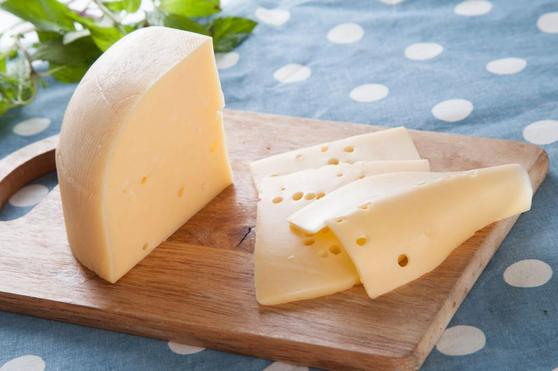cheese: (54, 24, 236, 275)
